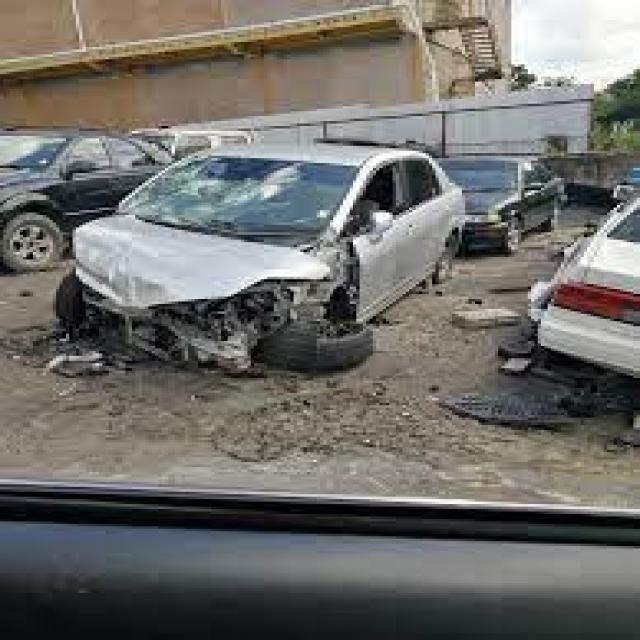Severe Damage: (33, 184, 444, 439)
